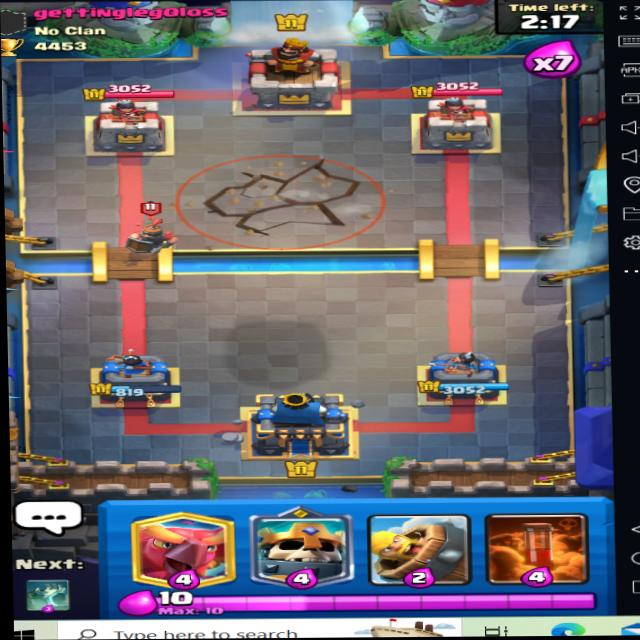earthquake: (175, 152, 391, 250)
royal-recruits: (128, 205, 185, 258)
